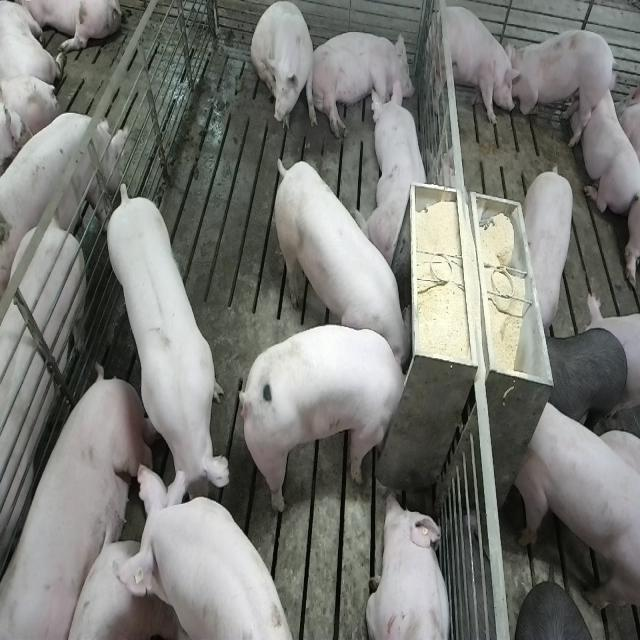Feeding: (244, 323, 417, 516), (269, 155, 412, 368)
Lateral_lying: (3, 366, 157, 640), (308, 29, 417, 140)
Sitting: (251, 3, 317, 140)
Standing: (105, 183, 232, 516), (0, 215, 88, 634), (127, 466, 297, 640), (515, 394, 638, 614), (0, 106, 123, 284), (509, 28, 615, 148), (430, 3, 519, 131), (524, 161, 578, 332), (545, 327, 628, 429)
Sternal_lying: (360, 79, 432, 264), (366, 489, 453, 640), (580, 76, 639, 216)
